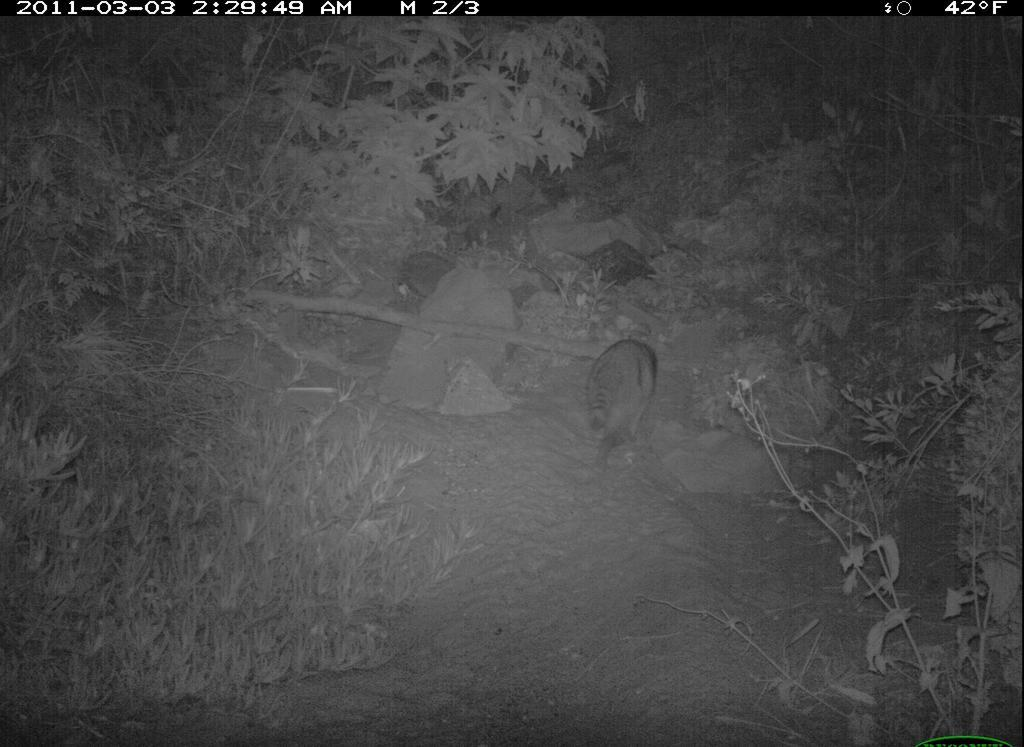raccoon: (570, 327, 666, 487)
